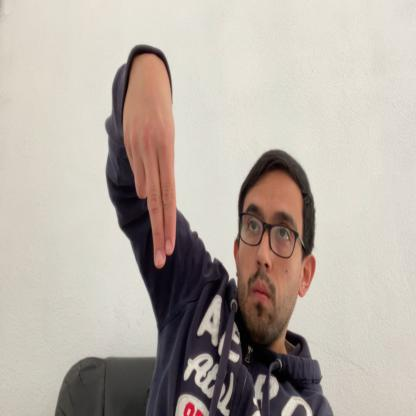N: (124, 57, 177, 270)
